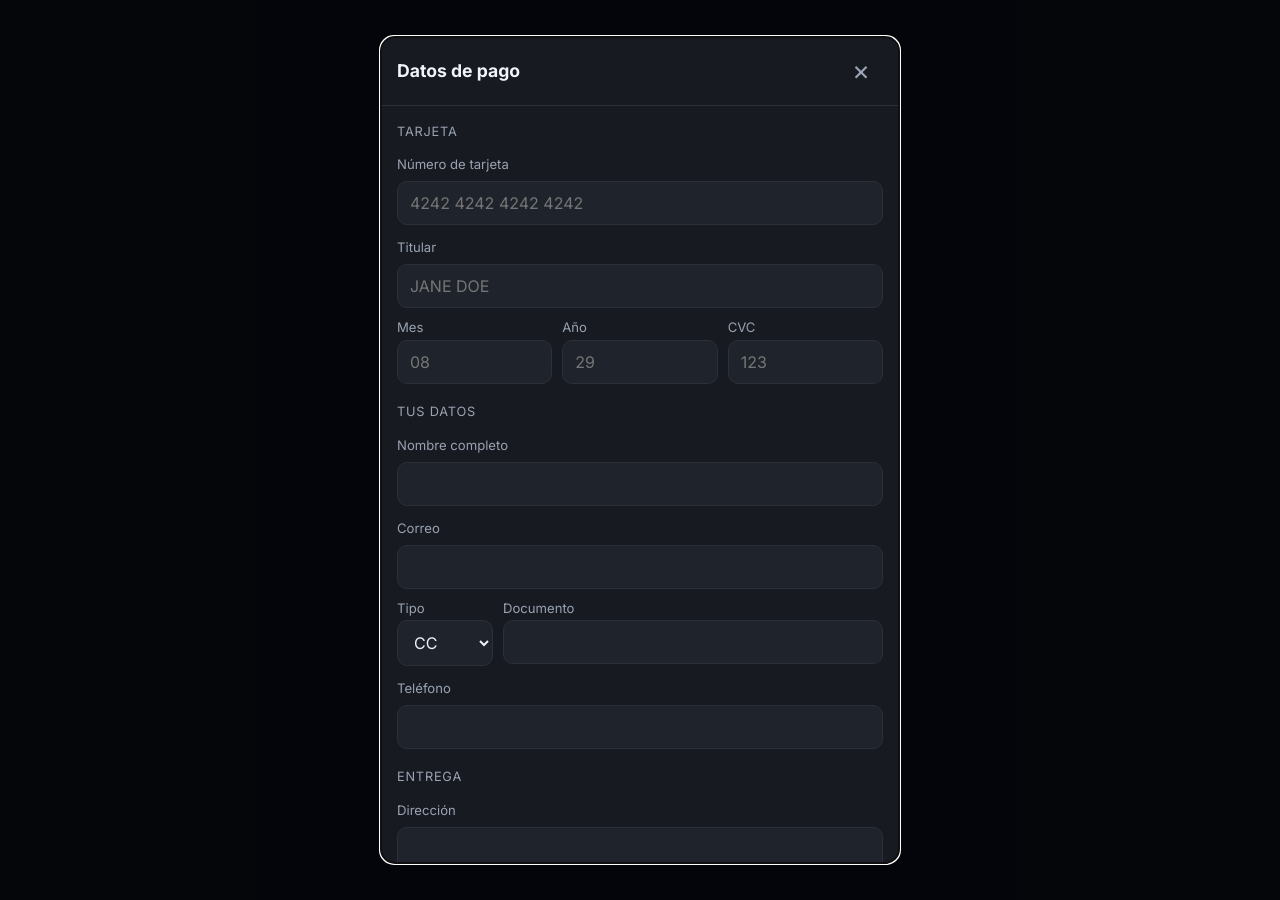
Test: PaymentModal › detects Mastercard too
In the field labelled "Número de tarjeta": (640, 204) [397,182,883,226], type "5555555555554444"
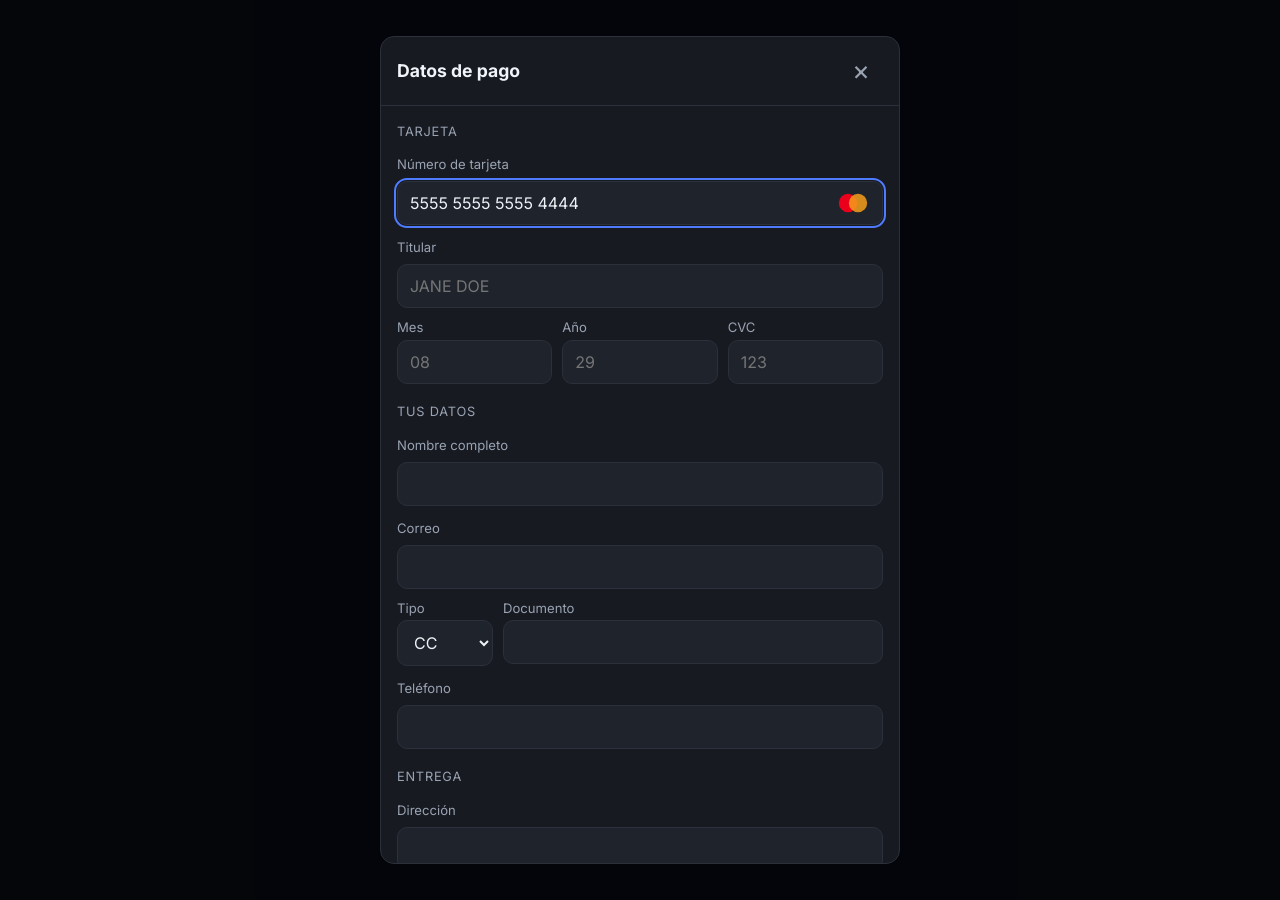
Expected: the picture named "Mastercard" is shown, [833,190,873,216]
